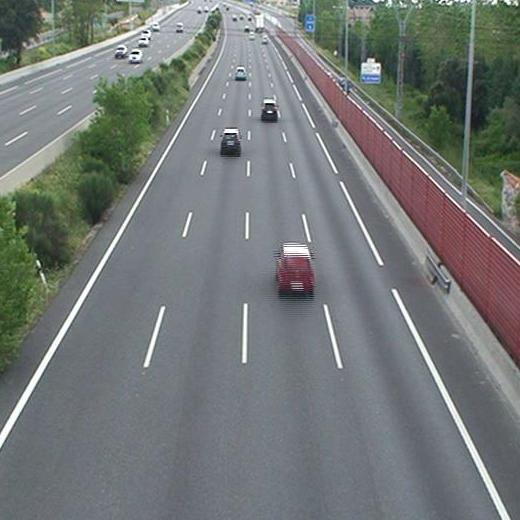car: (276, 245, 315, 290), (221, 129, 240, 153), (261, 100, 277, 119), (234, 69, 246, 78)
